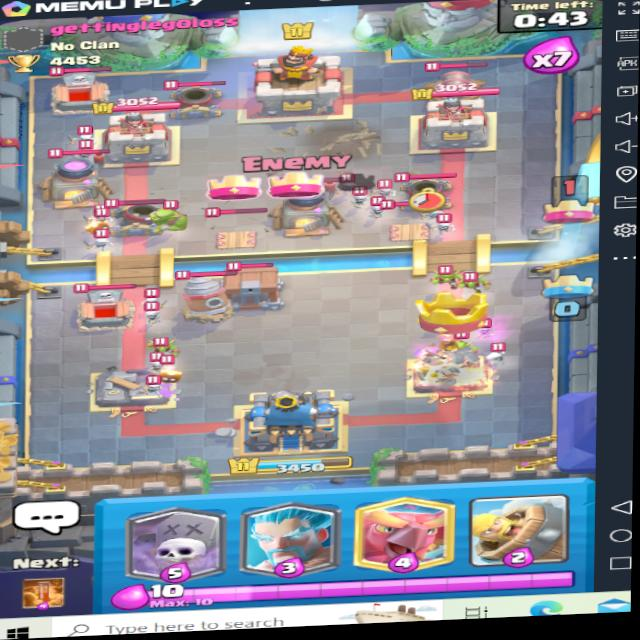brawler: (142, 197, 202, 239)
cannon: (420, 54, 490, 108)
fire-spirit: (156, 363, 193, 387), (90, 207, 115, 240)
furnace: (267, 170, 356, 234), (38, 144, 111, 201)
goblin: (145, 334, 182, 358), (458, 270, 493, 295), (426, 267, 455, 290)
goblin-cage: (212, 251, 288, 310)
goblin-drill: (165, 263, 239, 322)
mortar: (99, 188, 170, 240), (390, 163, 461, 211), (162, 71, 230, 118)
skeleton: (115, 258, 149, 277), (107, 173, 137, 194), (480, 343, 509, 364), (67, 125, 101, 142), (438, 211, 461, 236), (145, 347, 171, 369), (136, 307, 165, 323), (458, 281, 480, 300), (136, 291, 161, 307)
tesla-closed: (205, 201, 275, 249), (379, 194, 446, 242)
tombstone: (67, 277, 146, 327), (50, 62, 125, 113)
